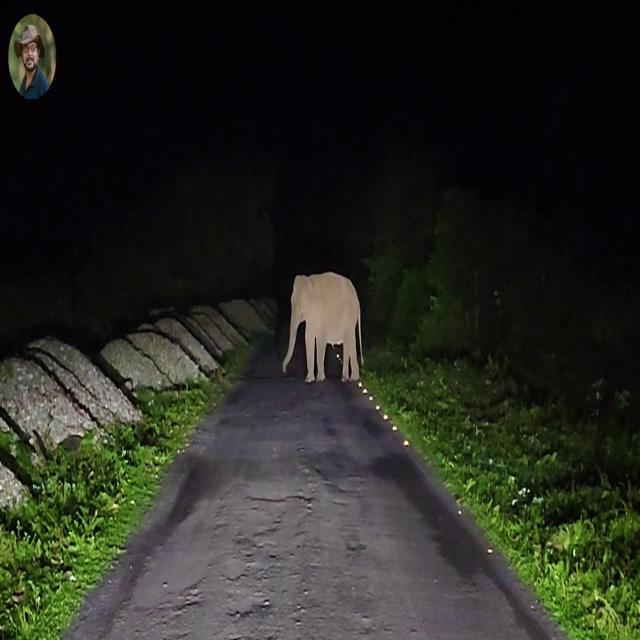Elephant: (282, 271, 364, 384)
